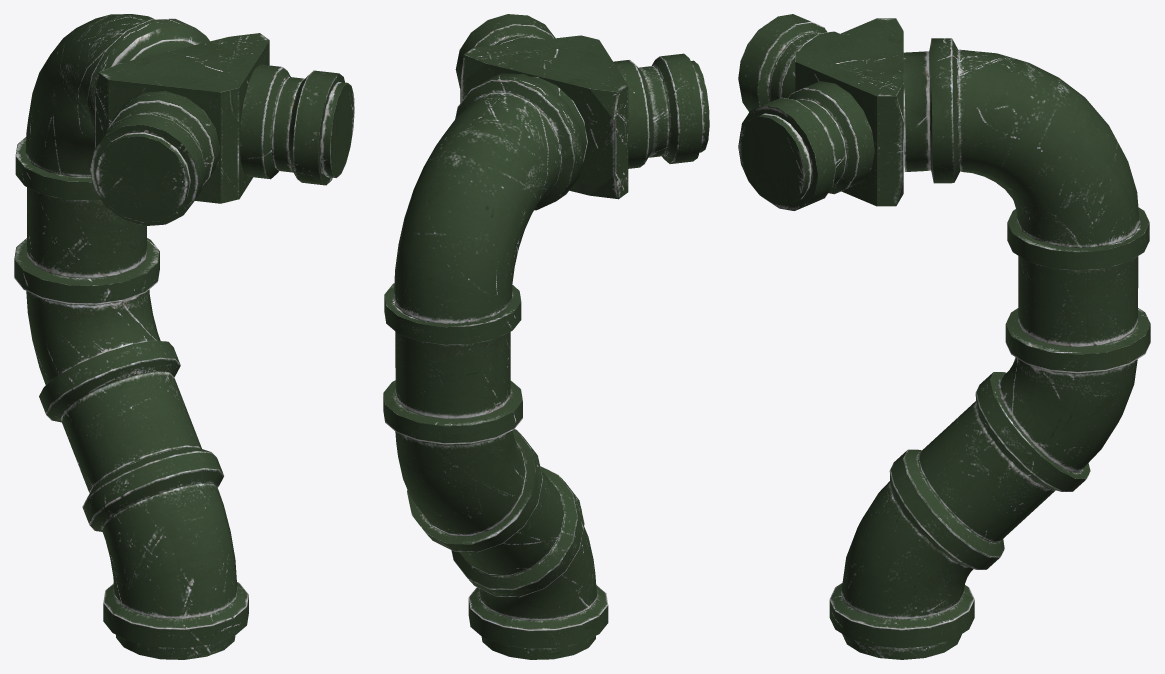
The model's file is prp_fireHydrant_A.fbx.
The picture shows the model from 3 angles, left to right: view 1: azimuth 30°, elevation 25°; view 2: azimuth 150°, elevation 25°; view 3: azimuth 270°, elevation 25°; orthographic projection. The views are drawn at different scales.
Parts seen in each view (by area): view 1: prp_fireHydrant_A_LOD0; view 2: prp_fireHydrant_A_LOD0; view 3: prp_fireHydrant_A_LOD0.
Boxes of the visible parts, bbox=[...] form: prp_fireHydrant_A_LOD0: bbox=[14, 14, 354, 659]; prp_fireHydrant_A_LOD0: bbox=[383, 14, 709, 659]; prp_fireHydrant_A_LOD0: bbox=[738, 14, 1150, 659].
Bounding box in the file's own units: 96.65 × 213 × 135.
